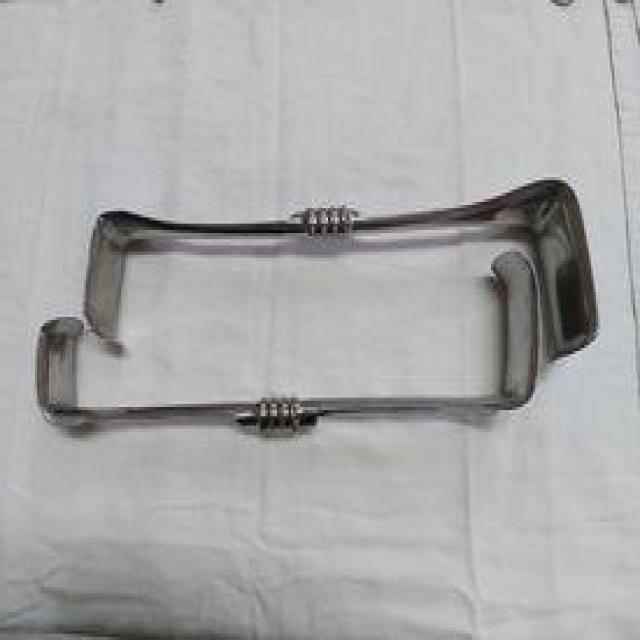Richardson: (30, 242, 549, 444), (77, 171, 603, 370)
